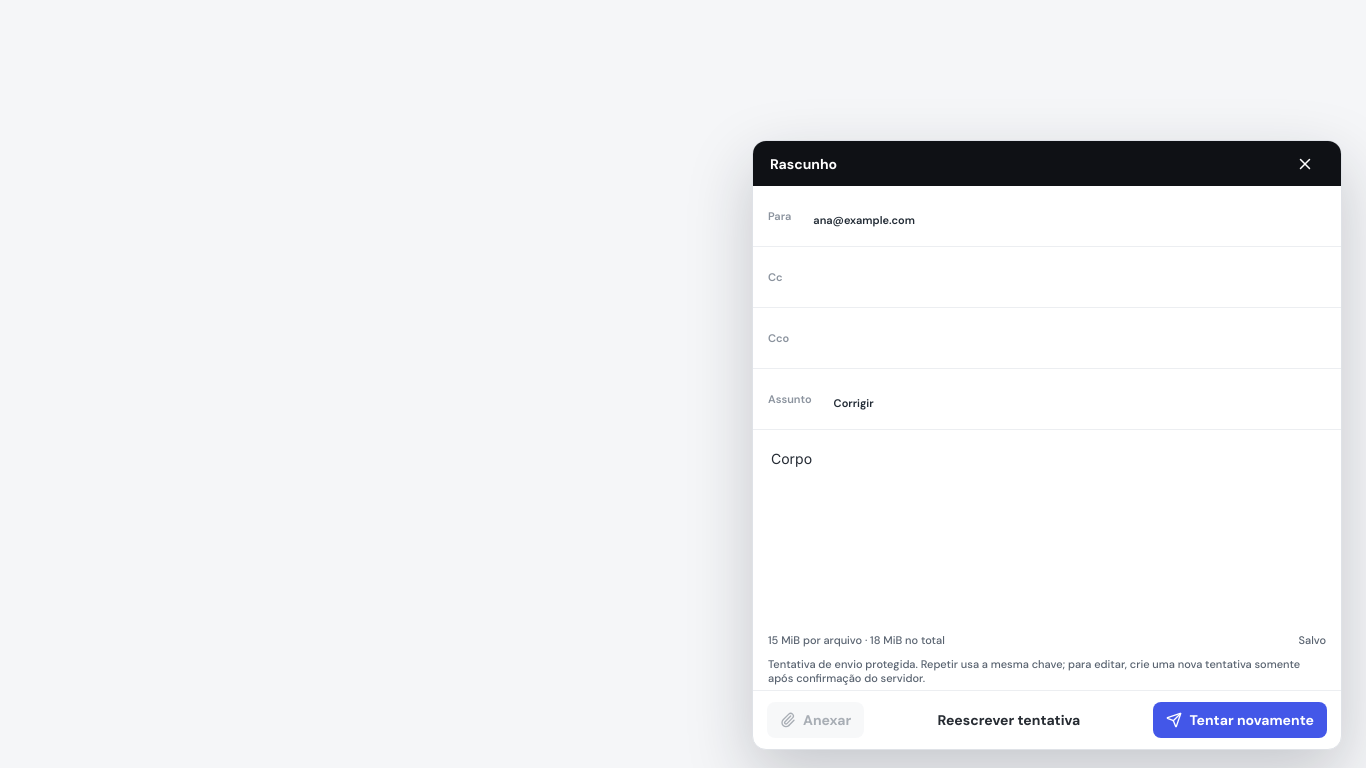
Test: bloqueia nova tentativa quando o aceite SMTP é incerto
What coordinates should you click on to do the following:
click the button "Reescrever tentativa"
I would click on:
 (1009, 720)
Its box is [924,702,1093,738].
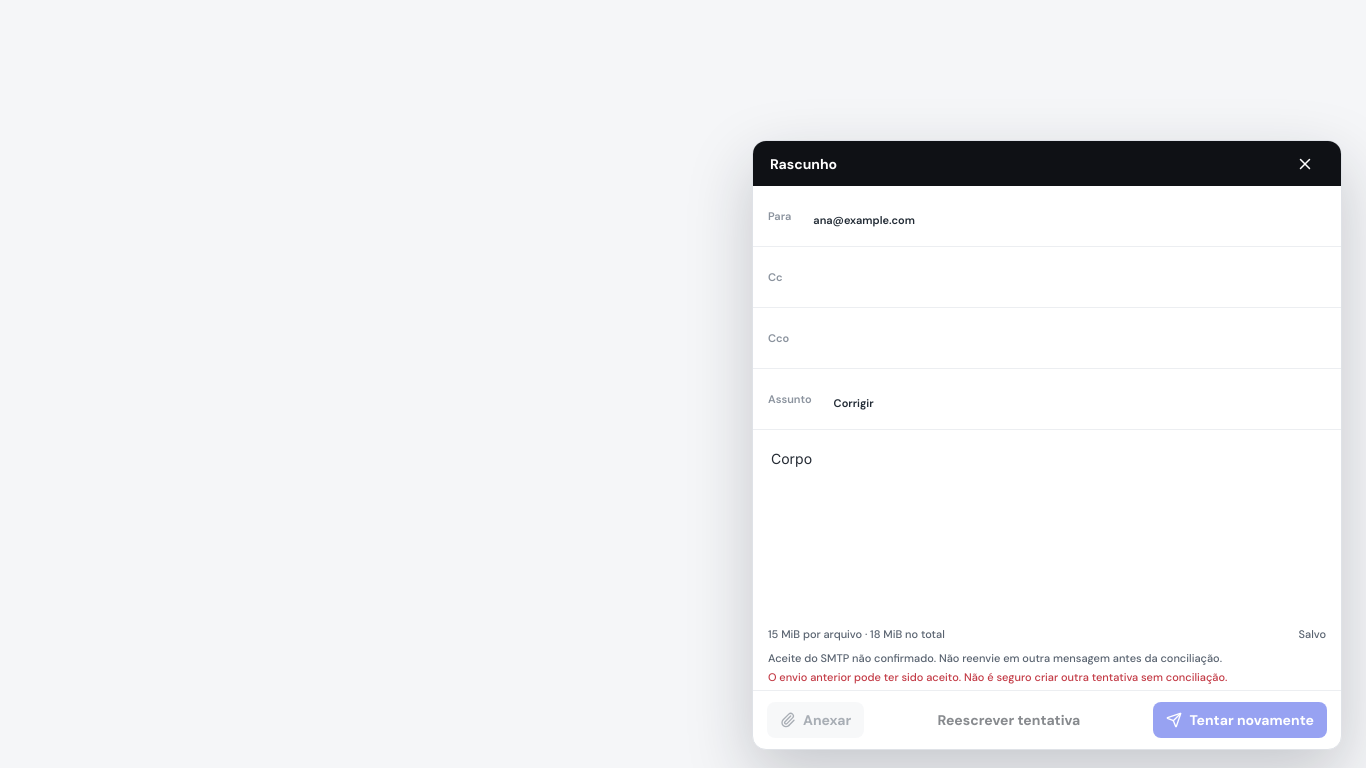
Check: the 2nd message shows "Não é seguro criar outra tentativa", box [768,670,1227,684]
Check: the button "Tentar novamente" is disabled, box [1154,702,1327,738]
